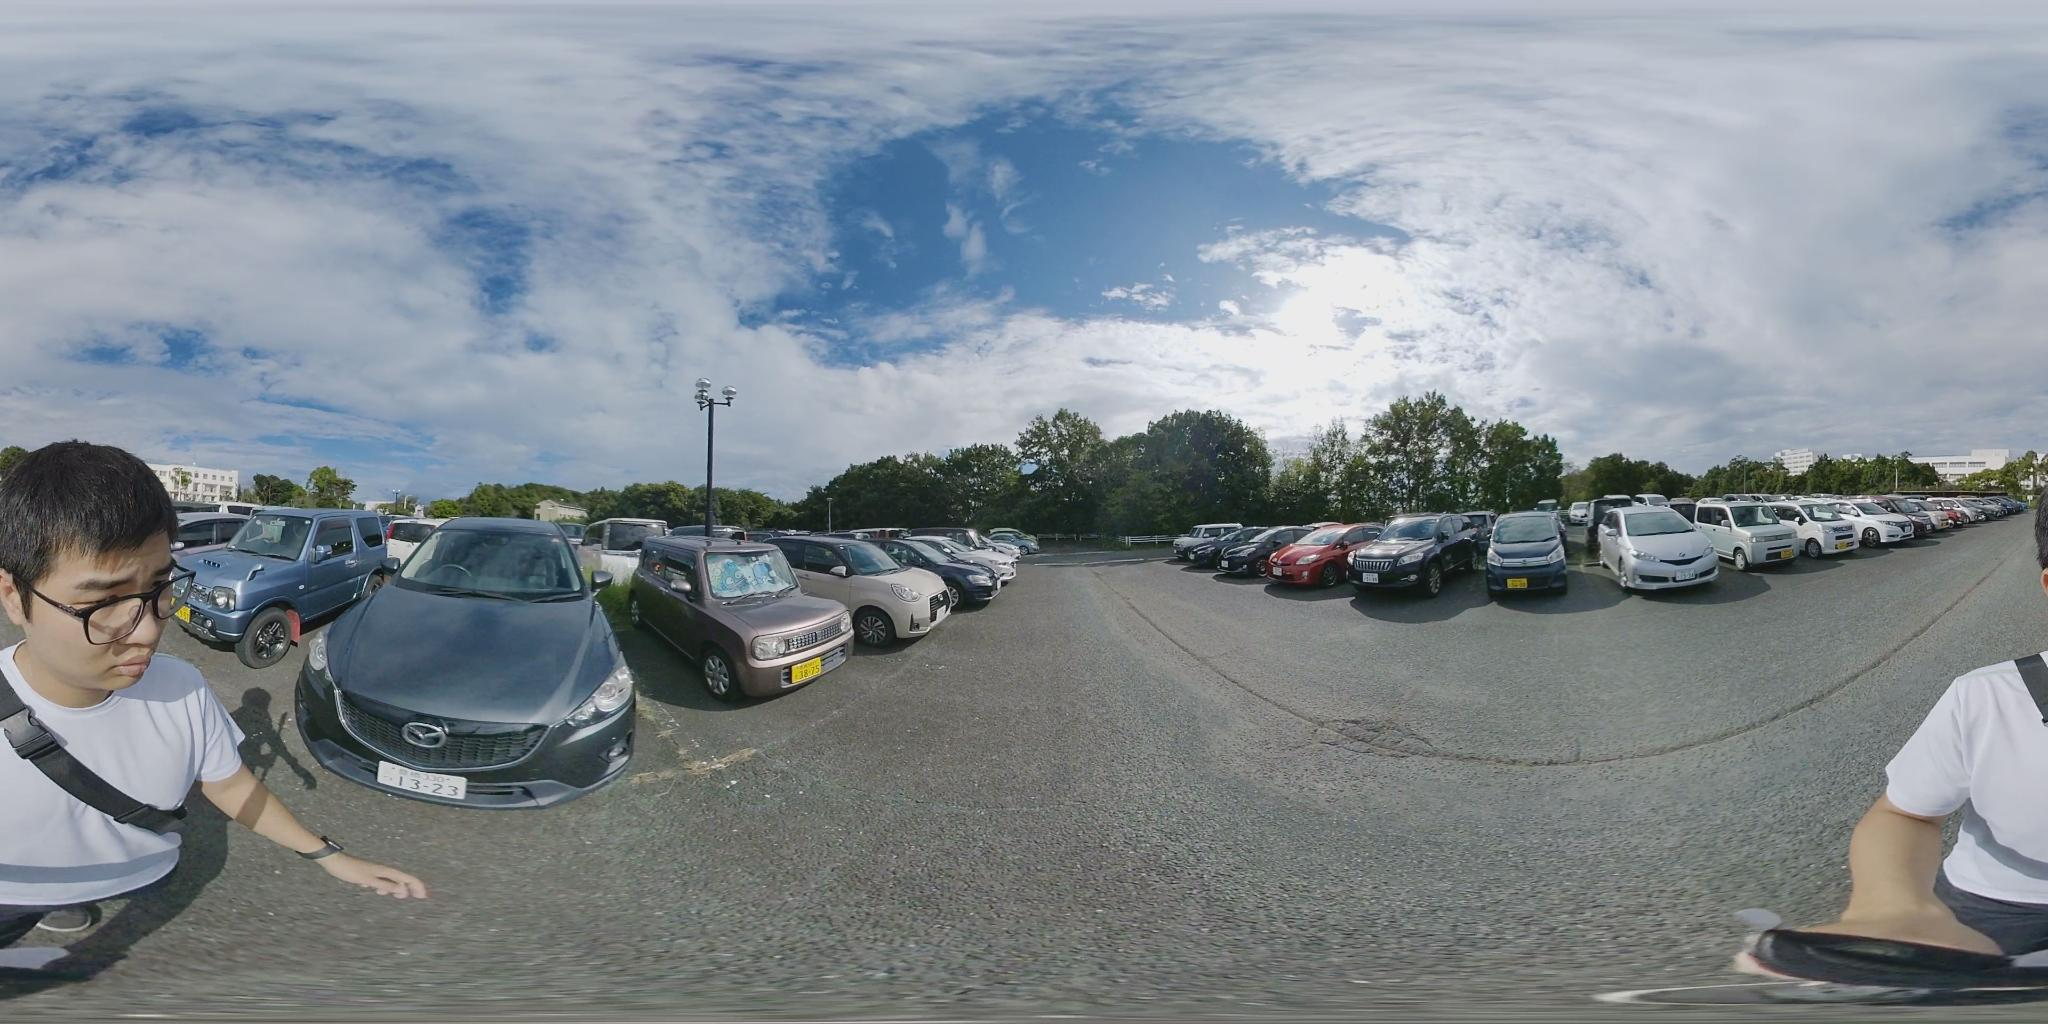car: (304, 509, 648, 827), (172, 508, 404, 664), (640, 532, 842, 696), (750, 530, 952, 650), (1341, 515, 1493, 593), (1599, 503, 1731, 590), (859, 533, 1012, 603), (1702, 495, 1830, 563), (1482, 509, 1575, 598), (1263, 521, 1368, 585), (1766, 498, 1869, 555), (1836, 496, 1923, 543), (1174, 524, 1258, 568), (588, 516, 674, 550), (388, 521, 441, 546), (986, 532, 1038, 555)
